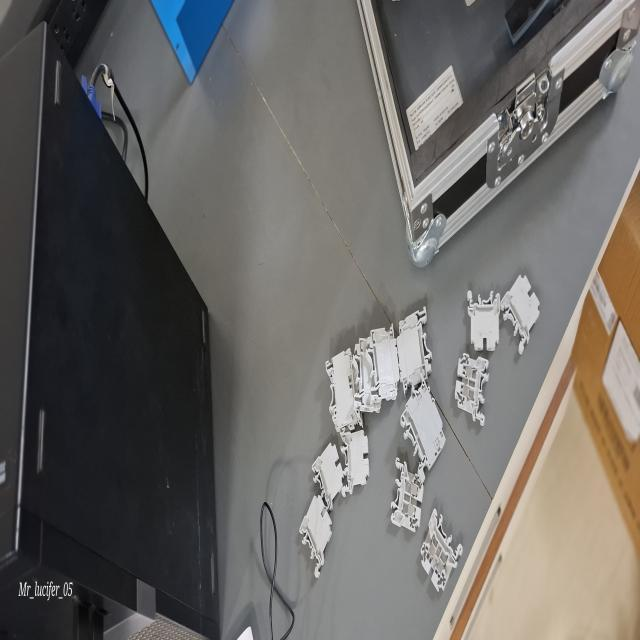Inverted: (499, 272, 544, 358), (465, 285, 501, 353), (311, 439, 344, 508), (338, 428, 370, 497)
Pass: (420, 506, 464, 594), (452, 351, 492, 429), (388, 456, 424, 532)
Reject: (298, 493, 333, 582)
